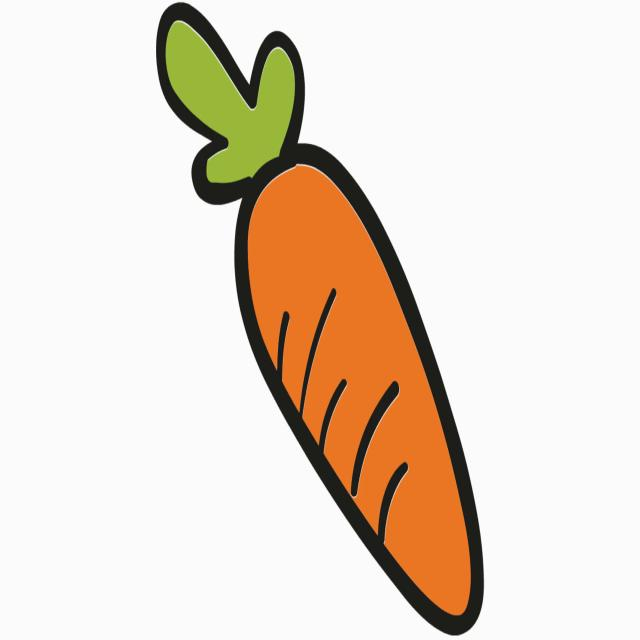carrot: (144, 3, 493, 640)
